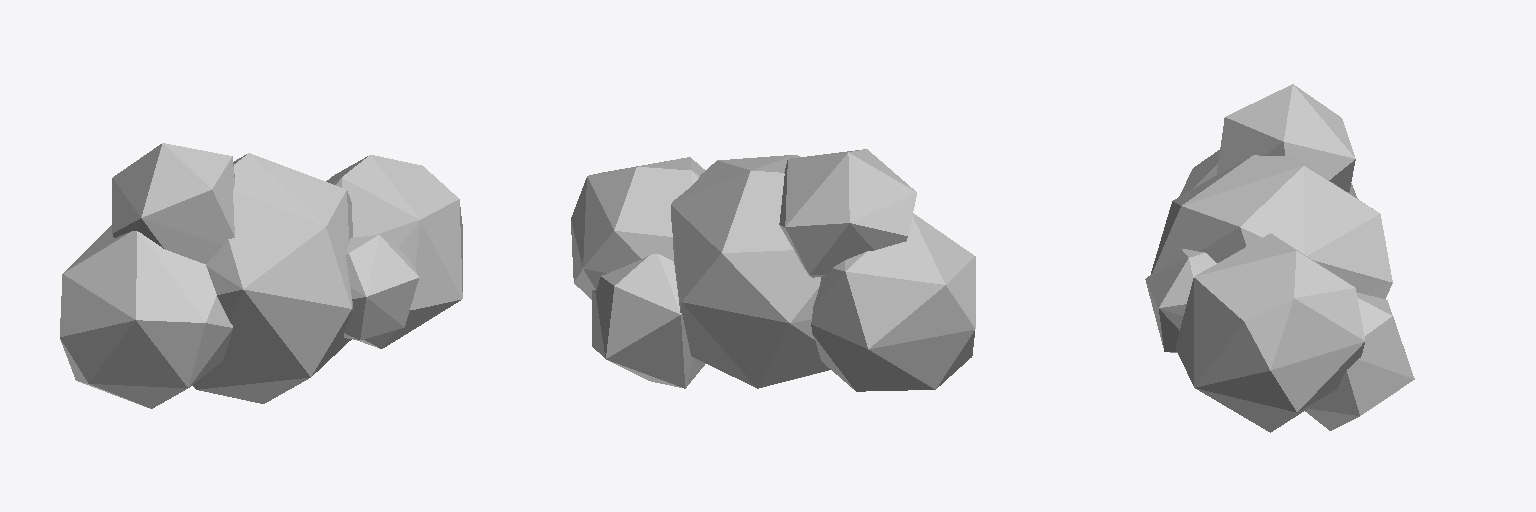
Rendered from Cloud_4.obj.
3 views of the same model, side by side, from view 1: azimuth 30°, elevation 25°; view 2: azimuth 150°, elevation 25°; view 3: azimuth 270°, elevation 25° (orthographic).
Parts seen in each view (by area): view 1: Cloud_4_Icosphere.045; view 2: Cloud_4_Icosphere.045; view 3: Cloud_4_Icosphere.045.
Boxes of the visible parts, x1=… form: Cloud_4_Icosphere.045: x1=60, y1=143, x2=462, y2=408; Cloud_4_Icosphere.045: x1=571, y1=149, x2=975, y2=391; Cloud_4_Icosphere.045: x1=1145, y1=84, x2=1414, y2=432.
Bounding box in the file's own units: 3.78 × 2.32 × 2.19.